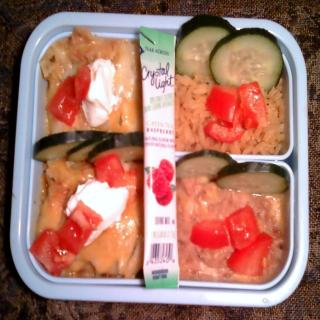tomato: (56, 200, 104, 253), (26, 225, 73, 278), (228, 229, 278, 277), (46, 76, 84, 129), (222, 205, 260, 251), (237, 78, 270, 129), (205, 85, 238, 123), (191, 219, 230, 250), (205, 120, 246, 140), (95, 158, 121, 184), (74, 65, 91, 96)
